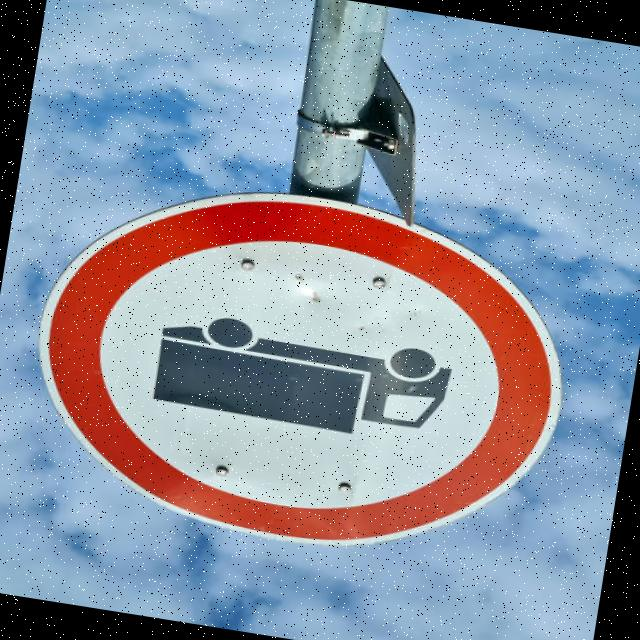do_not_enter: (0, 143, 597, 592)
